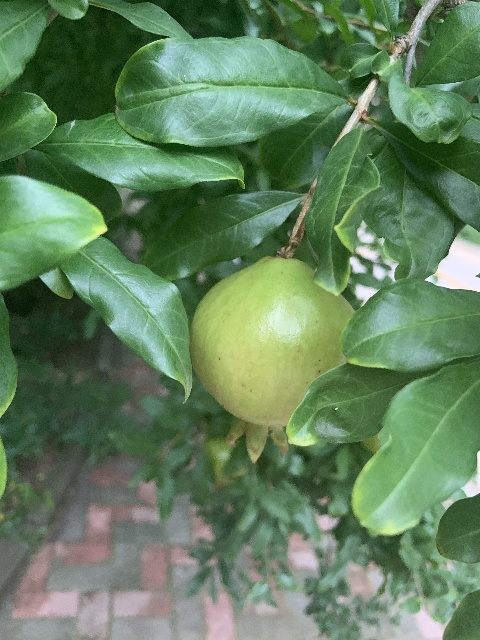mid-growth: (189, 255, 353, 463)
